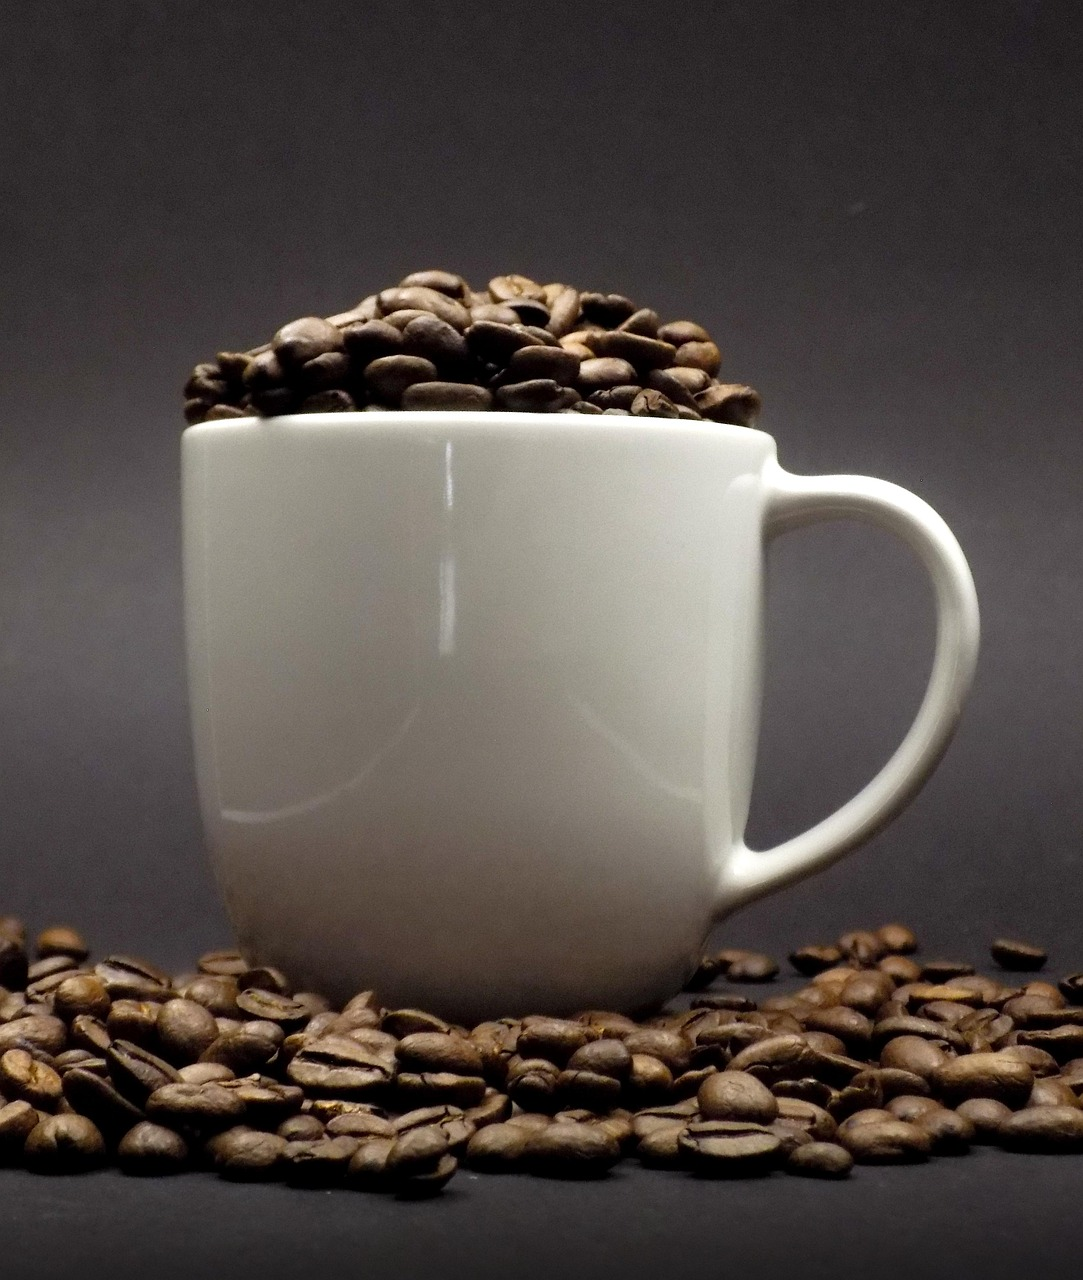mug: (154, 385, 986, 1041)
